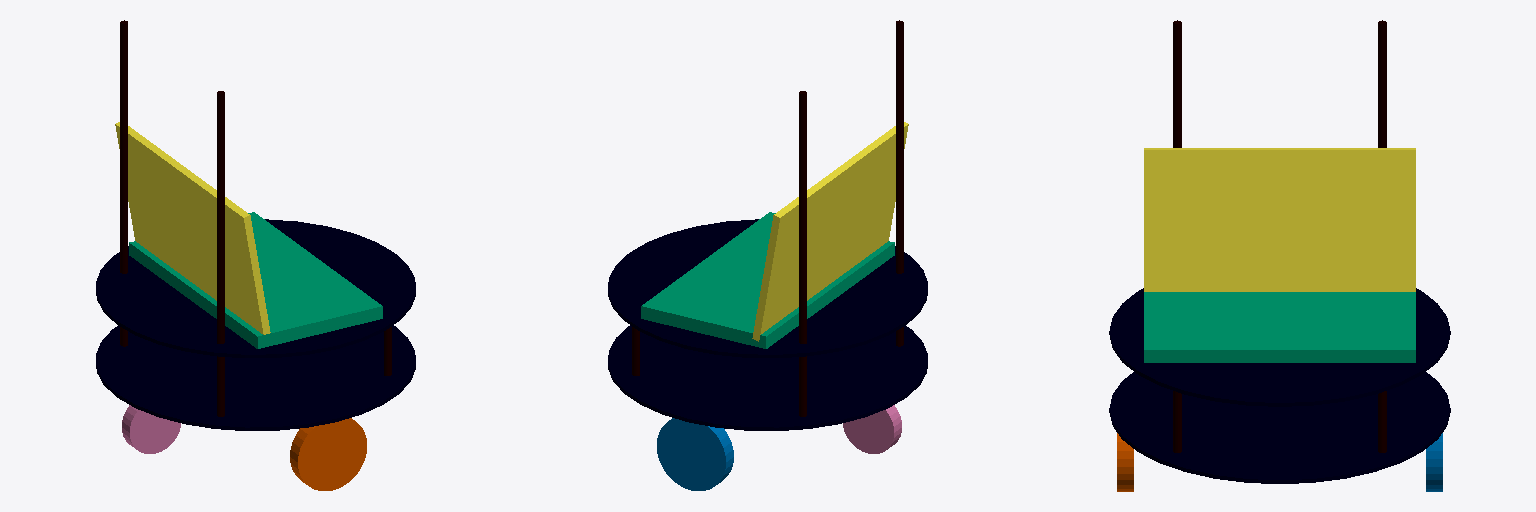
robot.urdf — patrick_the_robot:
<?xml version="1.0"?>
<!-- Author: [author] -->
<robot name="patrick_the_robot">
  <link name="base_link">
    <visual>
      <geometry>
        <cylinder length="0.005" radius="0.2"/>
      </geometry>
      <material name="black">
          <color rgba="0 0 0.118 1"/>
      </material>
    </visual>
  </link>

  <link name="base_laser">
    <visual>
      <geometry>
        <mesh filename="package://turtlebot_description/meshes/sensors/kinect.dae"/>
      </geometry>
    <origin rpy="0 0 1.5708"/>
    </visual>
  </link>  
  
  <link name="laptop_hor">
    <visual>
      <geometry>
        <box size="0.32 0.18 0.02"/>
      </geometry>
    <origin rpy="0 0 1.5708"/>
      <material name="white"/>
         <color rgba="1 1 1 1"/>
      <material/>        
    </visual>
  </link>
  
  <link name="laptop_ver">
    <visual>
      <geometry>
        <box size="0.32 0.18 0.01"/>
      </geometry>
    <origin rpy="1.4 0 1.5708"/>
        <material name="white_xxx"/>
          <color rgba="0 0 0 1"/>
        <material/>        
    </visual>
  </link>
  
  <link name="left_wheel">
    <visual>
      <geometry>
        <cylinder length="0.02" radius="0.05"/>
      </geometry>
    <origin rpy="0 1.5708 1.5708" xyz="0 0 0"/>
        <material name="blue_dark"/>
          <color rgba="0.3333 0.3333 0.498 1"/>
        <material/>        
    </visual>
  </link>
  
  <link name="right_wheel">
    <visual>
      <geometry>
        <cylinder length="0.02" radius="0.05"/>
      </geometry>
    <origin rpy="0 1.5708 1.5708" xyz="0 0 0"/>
        <material name="blue_dark"/>
          <color rgba="0.3333 0.3333 0.498 1"/>
        <material/>        
    </visual>
  </link>  
  
  <link name="small_wheel">
    <visual>
      <geometry>
        <cylinder length="0.02" radius="0.0375"/>
      </geometry>
    <origin rpy="0 1.5708 1.5708" xyz="0 0 0"/>
        <material name="blue_dark"/>
          <color rgba="0.3333 0.3333 0.498 1"/>
        <material/>        
    </visual>
  </link>
  
  <link name="pillar_small_wheel">
    <visual>
      <geometry>
        <cylinder length="0.0125" radius="0.03"/>
      </geometry>
      <material name="black_slightly">
        <color rgba="0.123 0 0 1"/>
      </material>
    </visual>
  </link>
  
  <link name="base_link_2">
    <visual>
      <geometry>
        <cylinder length="0.005" radius="0.2"/>
      </geometry>
      <material name="black">
          <color rgba="0 0 0.118 1"/>
      </material>
    </visual>
  </link>
  
  <link name="pillar_1">
    <visual>
      <geometry>
        <cylinder length="0.1" radius="0.005"/>
      </geometry>
      <material name="black_slightly">
        <color rgba="0.123 0 0 1"/>
      </material>
    </visual>
  </link>
  
  <link name="pillar_2">
    <visual>
      <geometry>
        <cylinder length="0.1" radius="0.005"/>
      </geometry>
      <material name="black_slightly">
        <color rgba="0.123 0 0 1"/>
      </material>
    </visual>
  </link>
  
  <link name="pillar_3">
    <visual>
      <geometry>
        <cylinder length="0.1" radius="0.005"/>
      </geometry>
      <material name="black_slightly">
        <color rgba="0.123 0 0 1"/>
      </material>
    </visual>
  </link>
  
  <link name="pillar_4">
    <visual>
      <geometry>
        <cylinder length="0.1" radius="0.005"/>
      </geometry>
      <material name="black_slightly">
        <color rgba="0.123 0 0 1"/>
      </material>
    </visual>
  </link>
  
  <link name="pillar_kinect_1">
    <visual>
      <geometry>
        <cylinder length="0.346" radius="0.005"/>
      </geometry>
      <material name="black_slightly">
        <color rgba="0.123 0 0 1"/>
      </material>
    </visual>
  </link>
  
  <link name="pillar_kinect_2">
    <visual>
      <geometry>
        <cylinder length="0.346" radius="0.005"/>
      </geometry>
      <material name="black_slightly">
        <color rgba="0.123 0 0 1"/>
      </material>
    </visual>
  </link>

  <joint name="base_to_left_wheel" type="fixed">
    <parent link="base_link"/>
    <child link="left_wheel"/>
    <origin xyz="0 0.181 -0.05"/>
  </joint>
  
  <joint name="base_to_right_wheel" type="fixed">
    <parent link="base_link"/>
    <child link="right_wheel"/>
    <origin xyz="0 -0.181 -0.05"/>
  </joint>
  
  <joint name="base_to_small_wheel" type="fixed">
    <parent link="base_link"/>
    <child link="small_wheel"/>
    <origin xyz="-0.15 0 -0.05"/>
  </joint>
  
  <joint name="base_to_small_wheel_and_pillar_small_wheel" type="fixed">
    <parent link="base_link"/>
    <child link="pillar_small_wheel"/>
    <origin xyz="-0.15 0 -0.00625"/>
  </joint>
  
  <joint name="base_to_laser" type="fixed">
    <parent link="base_link"/>
    <child link="base_laser"/>
    <origin xyz="-0.12 0 0.446"/>
  </joint>
  
  <joint name="base_to_laptop_hor" type="fixed">
    <parent link="base_link"/>
    <child link="laptop_hor"/>
    <origin xyz="0 0 0.11"/>
  </joint>
  
  <joint name="base_to_laptop_ver" type="fixed">
    <parent link="base_link"/>
    <child link="laptop_ver"/>
    <origin xyz="-0.09 0 0.2"/>
  </joint>
  
  <joint name="base_to_base" type="fixed">
    <parent link="base_link"/>
    <child link="base_link_2"/>
    <origin xyz="0 0 0.1"/>
  </joint>
  
  <joint name="base_to_pillar_1" type="fixed">
    <parent link="base_link"/>
    <child link="pillar_1"/>
    <origin xyz="0.12 0.12 0.05"/>
  </joint>
  
  <joint name="base_to_pillar_2" type="fixed">
    <parent link="base_link"/>
    <child link="pillar_2"/>
    <origin xyz="-0.12 0.12 0.05"/>
  </joint>
  
  <joint name="base_to_pillar_3" type="fixed">
    <parent link="base_link"/>
    <child link="pillar_3"/>
    <origin xyz="0.12 -0.12 0.05"/>
  </joint>
  
  <joint name="base_to_pillar_4" type="fixed">
    <parent link="base_link"/>
    <child link="pillar_4"/>
    <origin xyz="-0.12 -0.12 0.05"/>
  </joint>
  
  <joint name="base_to_pillar_kinect_1" type="fixed">
    <parent link="base_link"/>
    <child link="pillar_kinect_1"/>
    <origin xyz="-0.12 0.12 0.273"/>
  </joint>
  
  <joint name="base_to_pillar_kinect_2" type="fixed">
    <parent link="base_link"/>
    <child link="pillar_kinect_2"/>
    <origin xyz="-0.12 -0.12 0.273"/>
  </joint>

</robot>

--- Render facts (derived) ---
3 views of the same robot in one strip: view 1: azimuth 30°, elevation 25°; view 2: azimuth 150°, elevation 25°; view 3: azimuth 270°, elevation 25° (orthographic).
Robot: patrick_the_robot — 15 links, 14 joints (14 fixed); root link base_link; default pose: every joint at zero.
Links seen in each view (by area): view 1: base_link, base_link_2, laptop_ver, laptop_hor, right_wheel, pillar_kinect_1, pillar_kinect_2, small_wheel; view 2: base_link, base_link_2, laptop_ver, laptop_hor, left_wheel, pillar_kinect_1, pillar_kinect_2, small_wheel; view 3: laptop_ver, base_link, laptop_hor, base_link_2, pillar_kinect_1, pillar_kinect_2, left_wheel, right_wheel, pillar_1, pillar_3.
Boxes of the visible links, bbox=[...] form: base_link: bbox=[96, 325, 415, 430]; base_link_2: bbox=[96, 219, 415, 357]; laptop_ver: bbox=[115, 122, 270, 334]; laptop_hor: bbox=[129, 212, 382, 348]; right_wheel: bbox=[290, 418, 366, 490]; pillar_kinect_1: bbox=[120, 20, 127, 273]; pillar_kinect_2: bbox=[217, 91, 224, 343]; small_wheel: bbox=[122, 405, 180, 453]; base_link: bbox=[608, 325, 927, 430]; base_link_2: bbox=[608, 219, 927, 357]; laptop_ver: bbox=[752, 122, 908, 341]; laptop_hor: bbox=[641, 212, 894, 348]; left_wheel: bbox=[657, 418, 733, 490]; pillar_kinect_1: bbox=[799, 91, 806, 343]; pillar_kinect_2: bbox=[896, 20, 903, 273]; small_wheel: bbox=[843, 405, 901, 453]; laptop_ver: bbox=[1144, 148, 1415, 291]; base_link: bbox=[1109, 372, 1450, 483]; laptop_hor: bbox=[1144, 292, 1415, 362]; base_link_2: bbox=[1109, 288, 1450, 406]; pillar_kinect_1: bbox=[1378, 20, 1386, 147]; pillar_kinect_2: bbox=[1173, 20, 1181, 147]; left_wheel: bbox=[1426, 433, 1442, 491]; right_wheel: bbox=[1117, 433, 1133, 491]; pillar_1: bbox=[1378, 391, 1386, 452]; pillar_3: bbox=[1173, 391, 1181, 452].
Bounding box of the posed robot: 0.4 × 0.4 × 0.546 m (x, y, z).
Meshes: 1 distinct files referenced, 0 mesh visuals loaded (none loaded); not drawn: 1 (reference not matched to a file when rendering).
